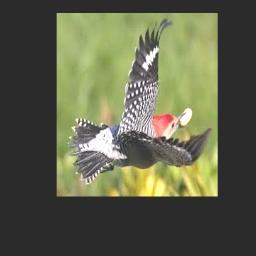Woodpecker: (67, 18, 212, 184)
